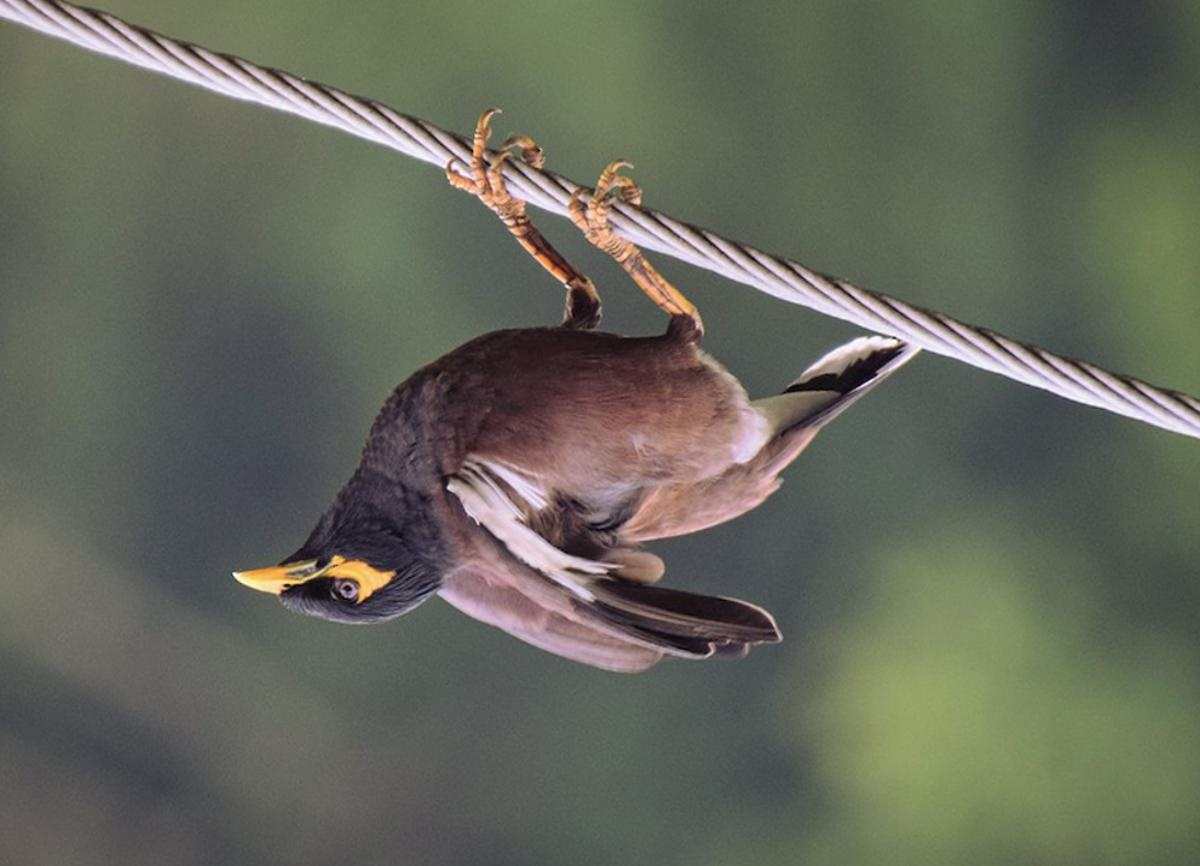myna: (210, 183, 877, 671)
